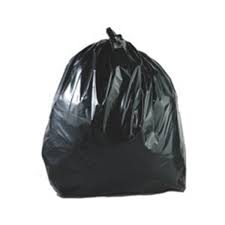Trash: (35, 19, 195, 200)
